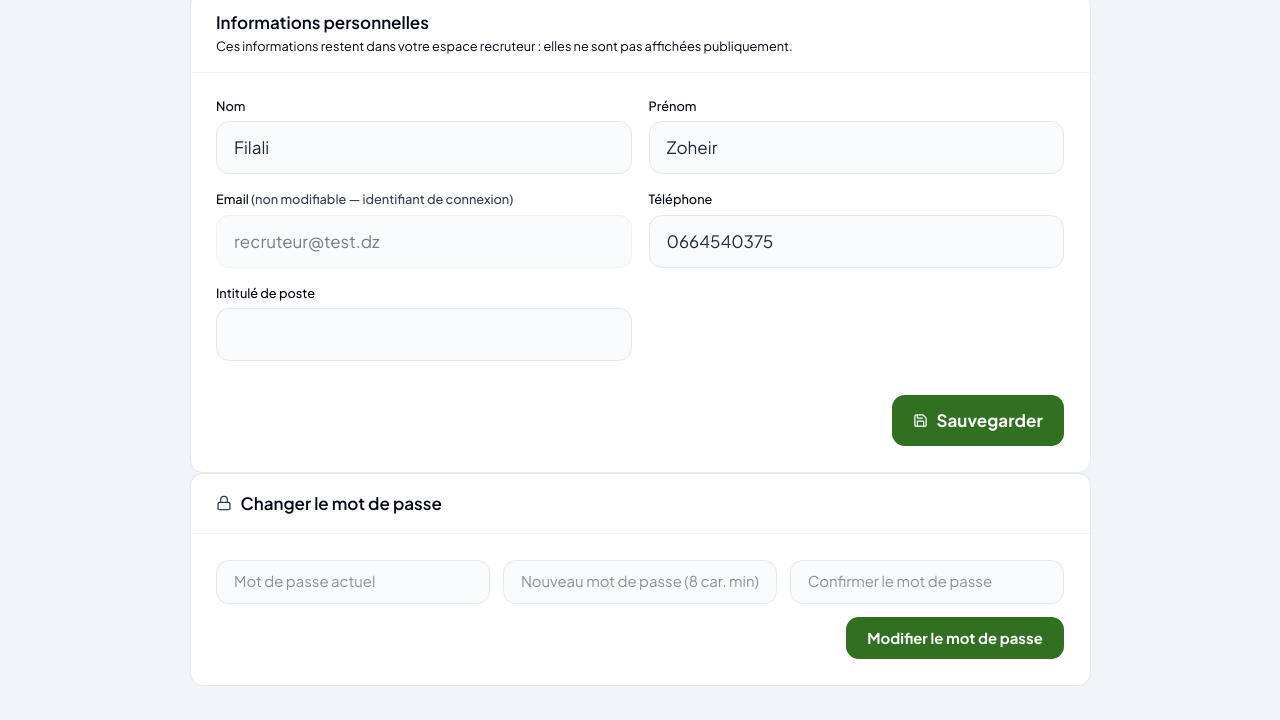
Scenario: ⚙️ UI & Logique - Composant <ParametresRecruteur /> › 🔴 MDP3 : Nouveau MDP trop court → message sous le champ sans appel API
(page scrolled)
Expected: the field showing "Zoheir" below "Prénom" is shown, [648,122,1064,174]
Type "court" into the password field with placeholder "Nouveau mot de passe (8 car. min)". click: (640, 582)
box: [503,560,777,604]
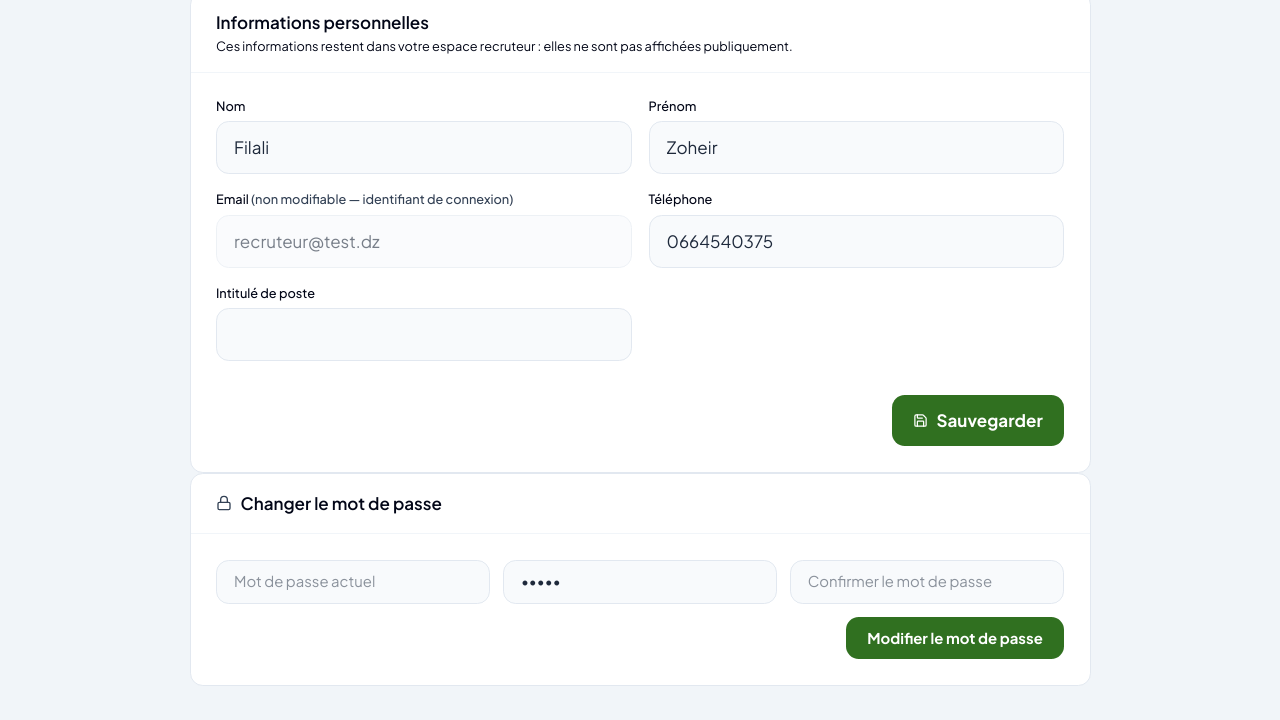
Type "court" into the password field with placeholder "Confirmer le mot de passe". click: (927, 582)
box: [790,560,1064,604]
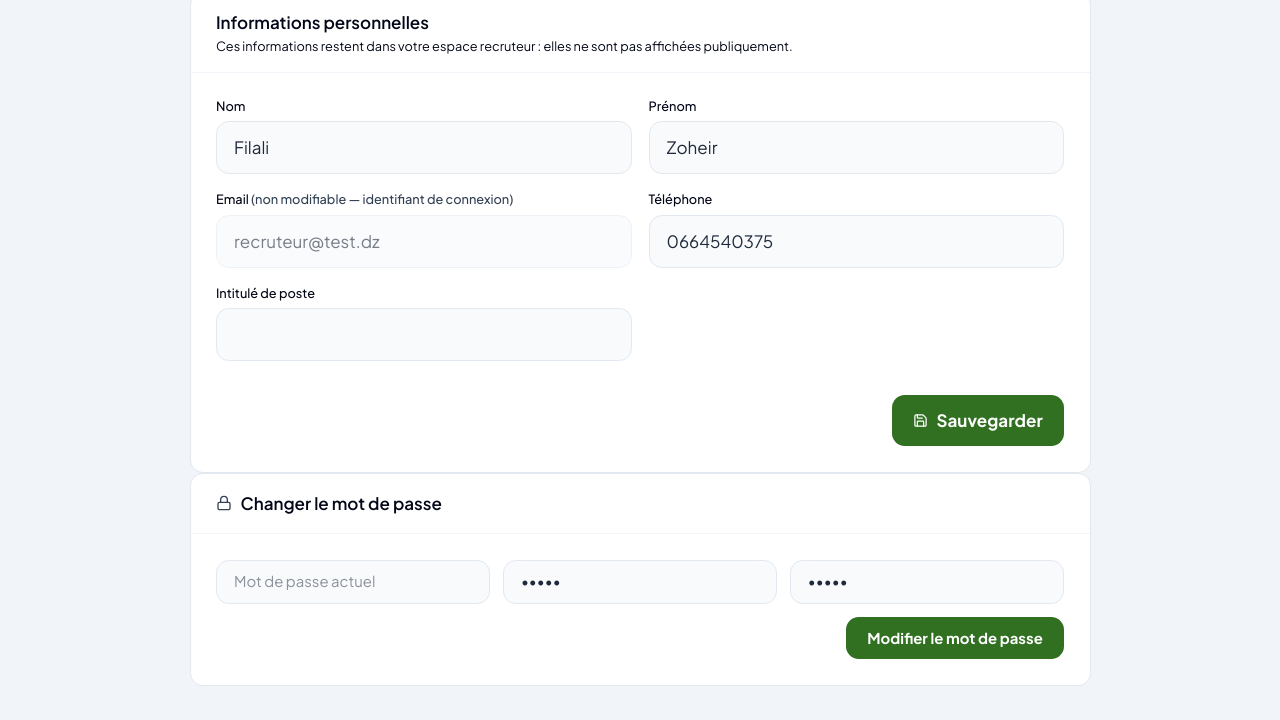
Click the button "Modifier le mot de passe". click: click(955, 638)
box: [846,617,1064,660]
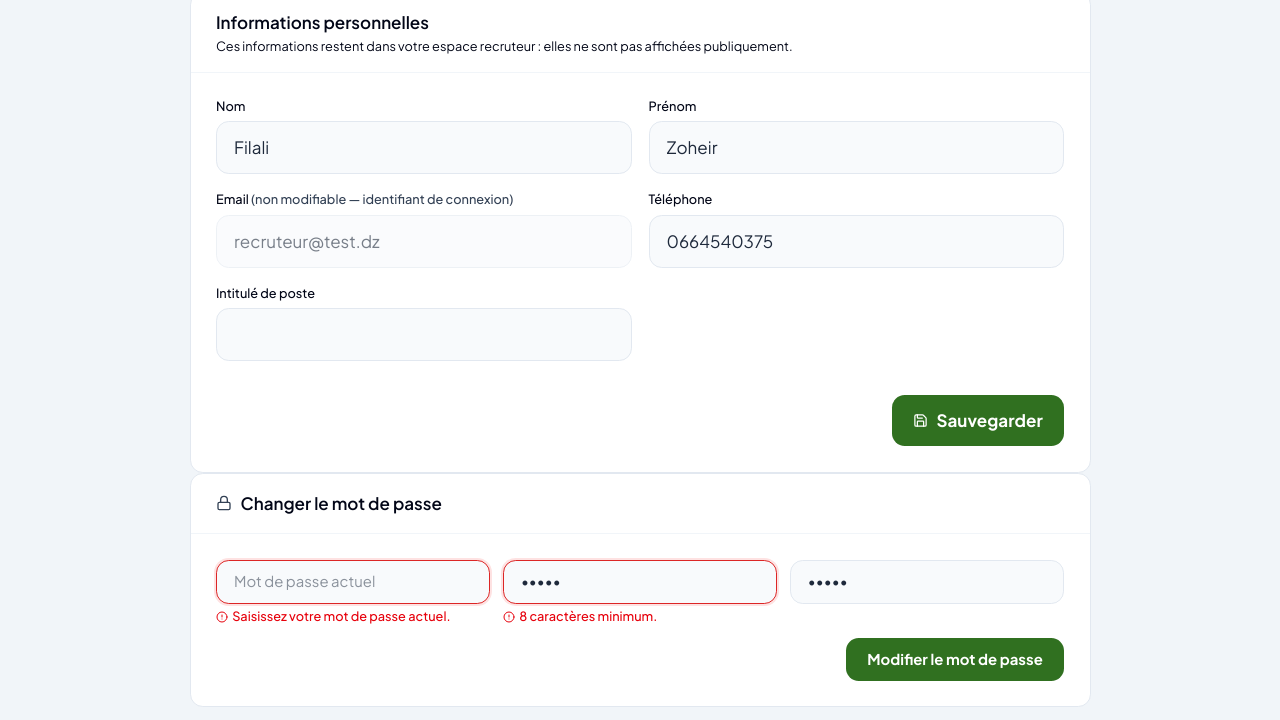
Expected: the text "8 caractères minimum." is shown, [503,608,657,624]
